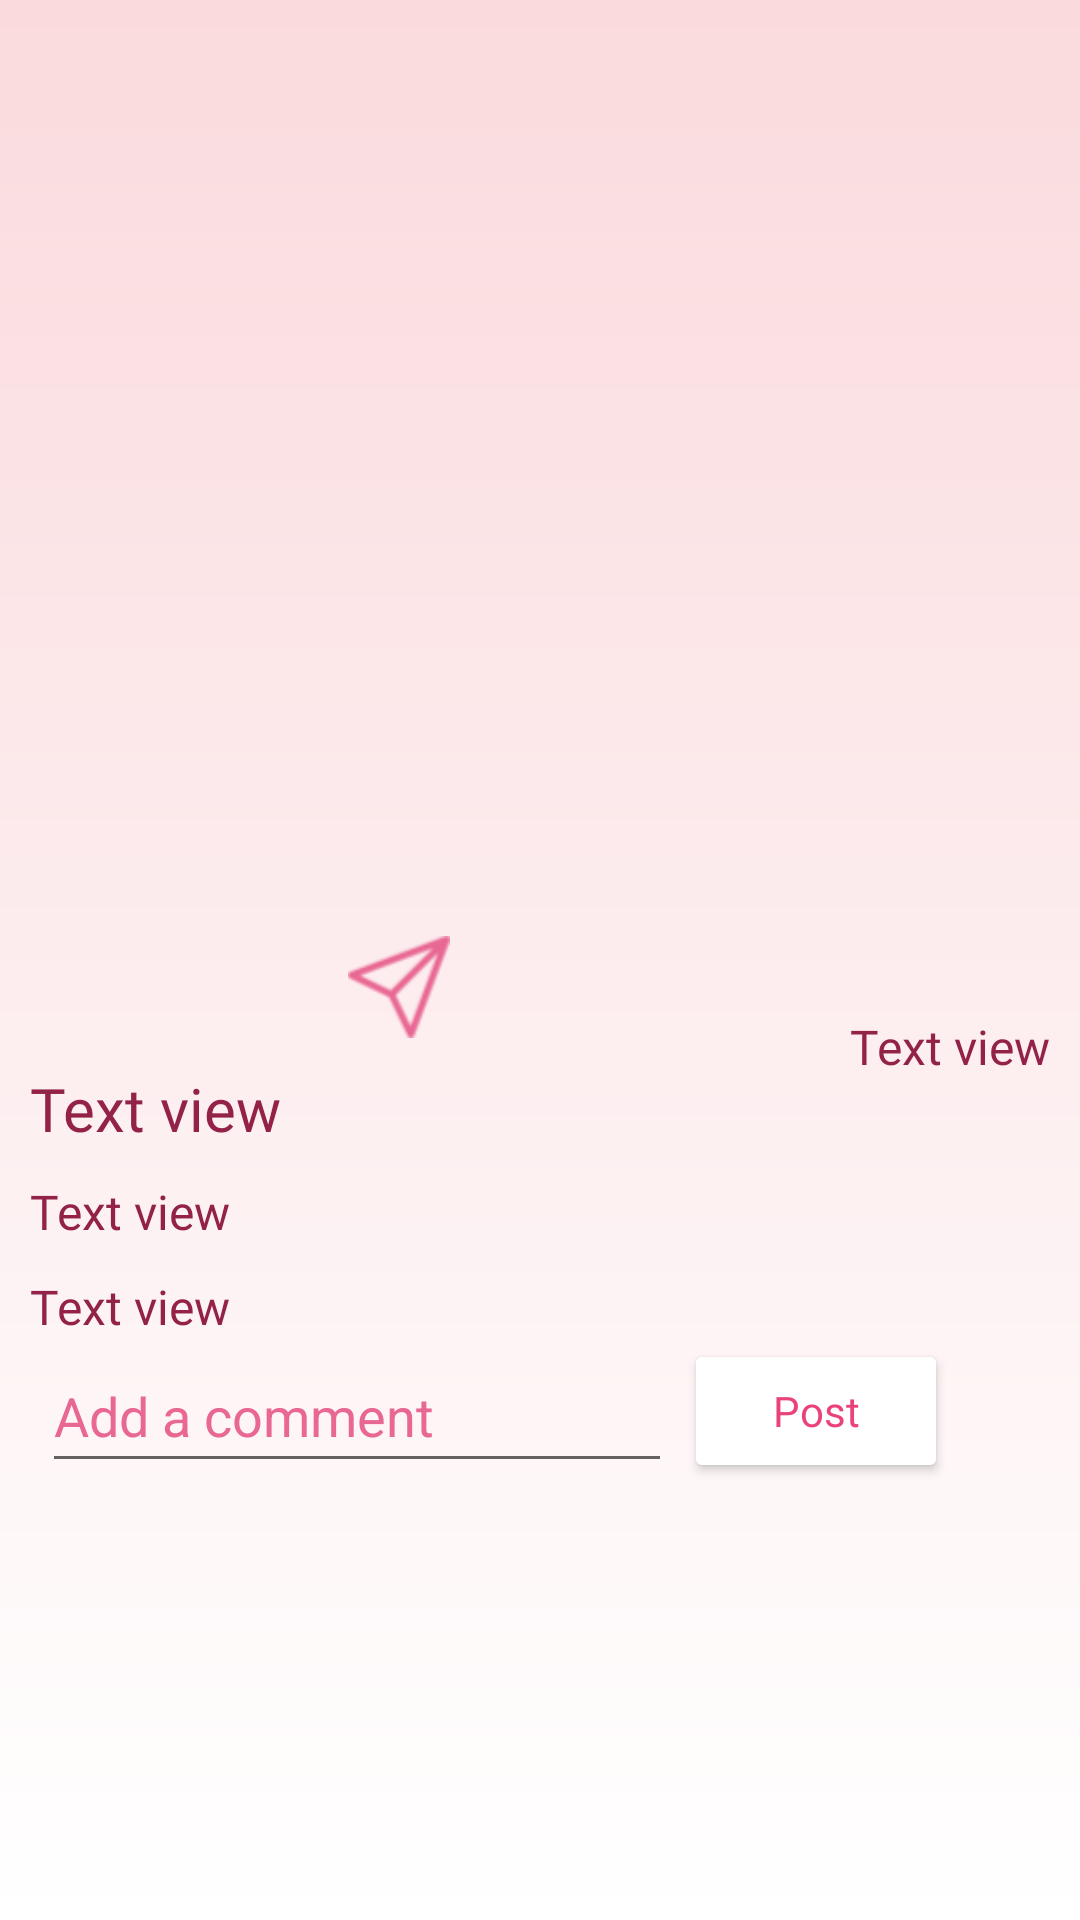

Screen size 1080w x 1920h. Icon name, then its box in pixels as bbox=(x1, y1, x2, y2):
send: bbox=(348, 936, 450, 1038)
